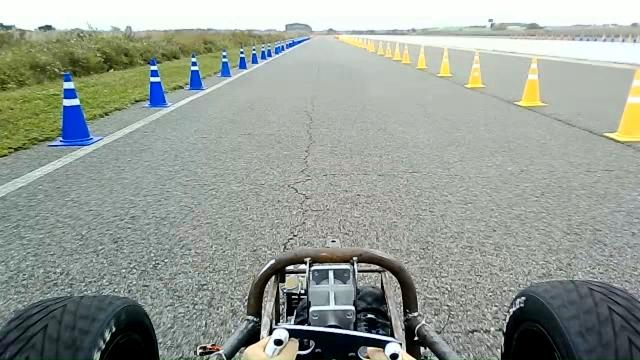blue cone: (48, 70, 104, 146), (142, 58, 172, 108), (185, 52, 207, 90), (217, 48, 232, 77), (236, 47, 248, 69), (250, 44, 259, 64), (260, 43, 267, 61), (266, 43, 272, 58)
yellow cone: (602, 68, 640, 143), (513, 56, 548, 107), (464, 50, 486, 88), (436, 46, 453, 77), (415, 43, 428, 69), (401, 44, 411, 63), (392, 42, 402, 60), (383, 42, 392, 58), (377, 40, 384, 56), (367, 39, 375, 52), (359, 38, 366, 49)
